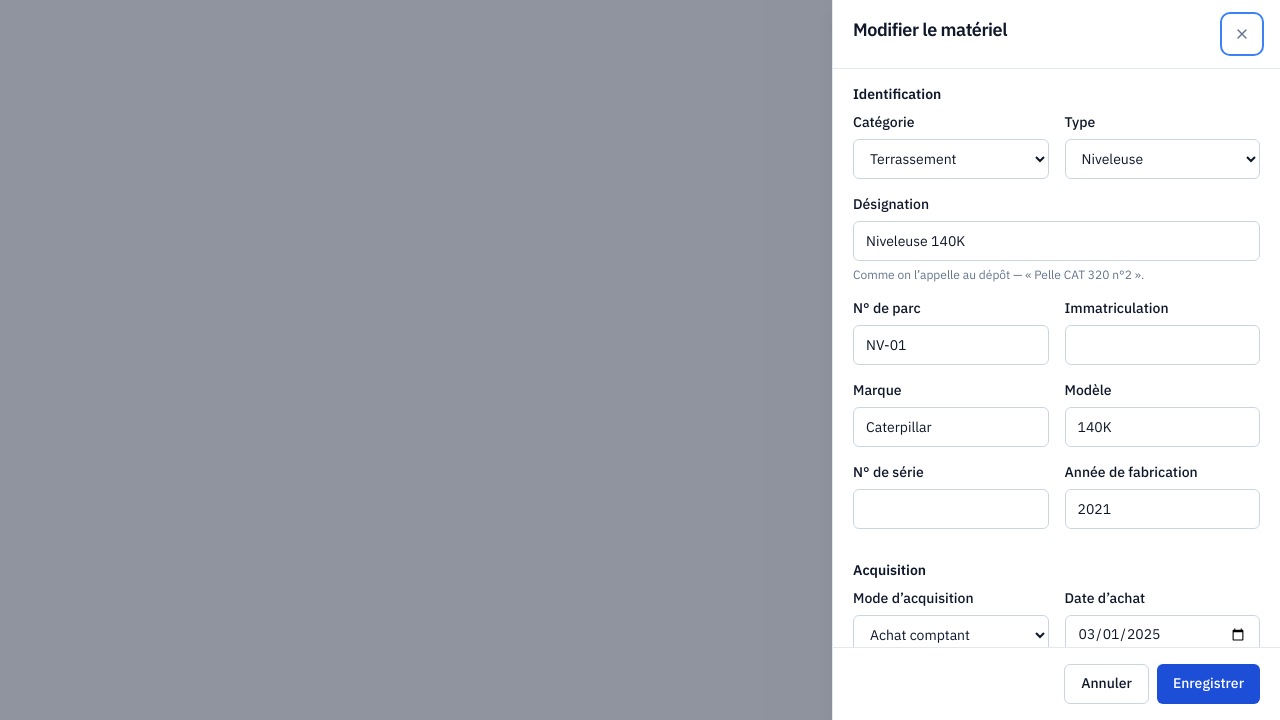
Scenario: EquipmentDrawer, editing and state › puts a taken fleet number under its field, and stays open
The image size is (1280, 720).
Check: the dropdown labelled "Catégorie" is shown, box top-left (853, 139), bottom-right (1048, 179)
Click the button "Enregistrer" at (1208, 684), box top-left (1157, 664), bottom-right (1260, 704)
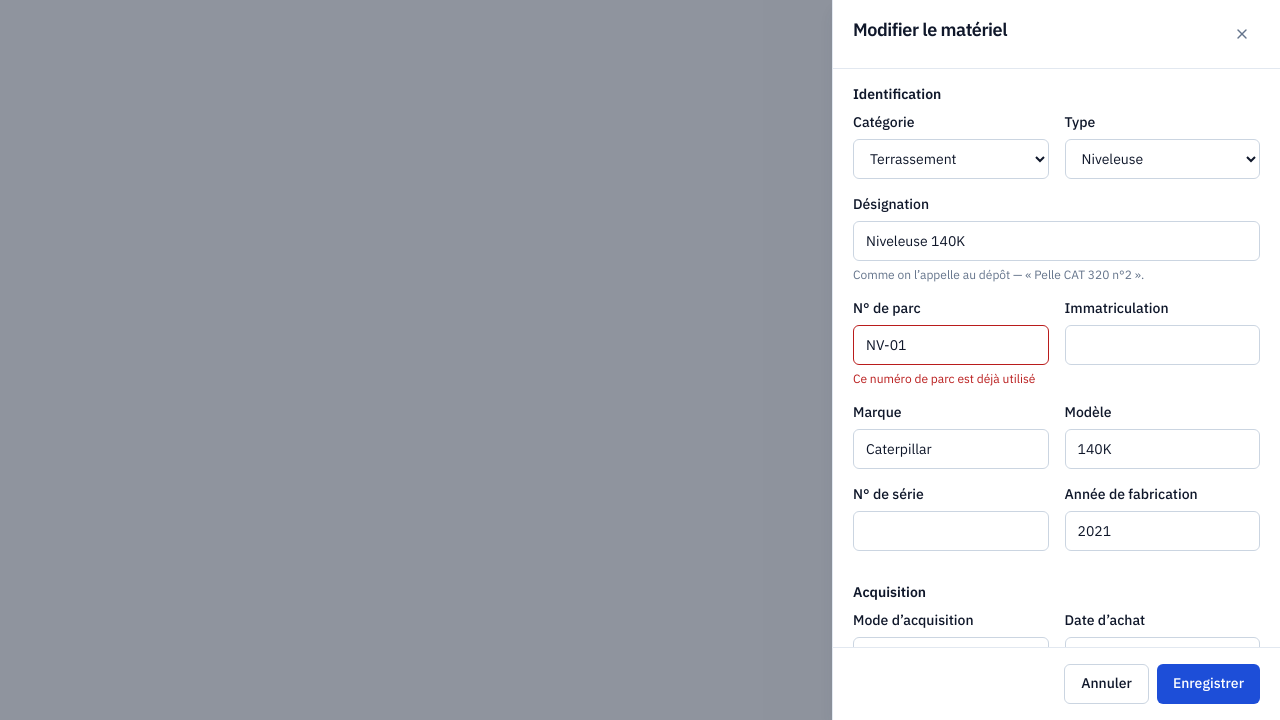
Check: the text "Ce numéro de parc est déjà utilisé" is shown, box top-left (853, 371), bottom-right (1048, 387)
